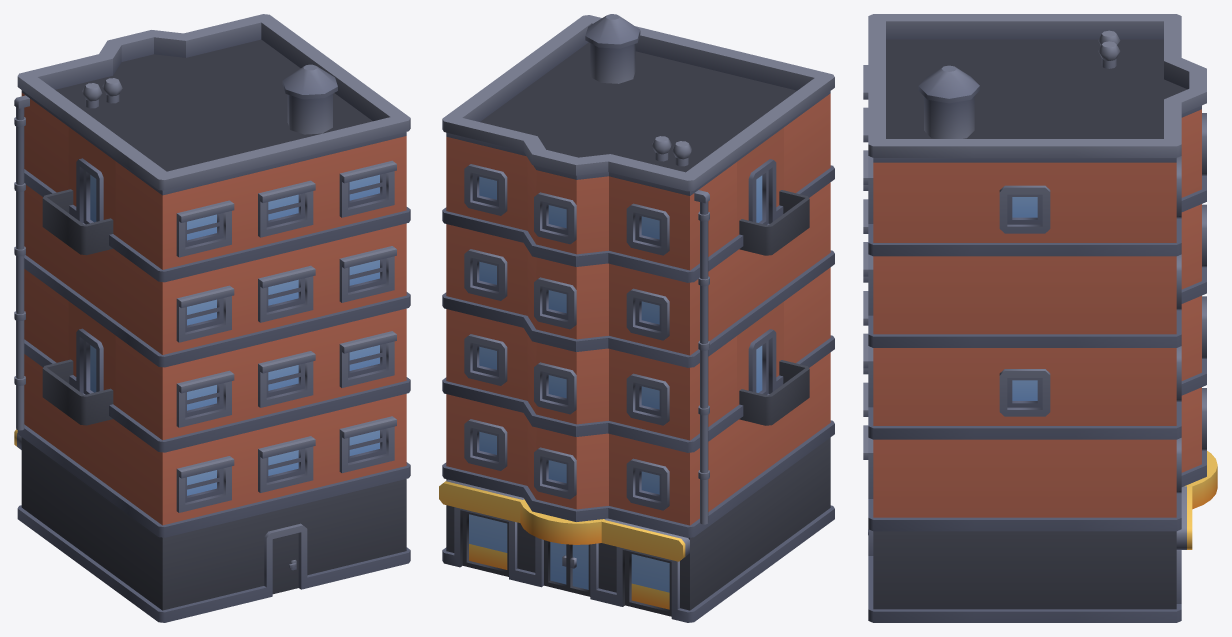
The model's file is building-l-b.glb.
The picture shows the model from 3 angles, left to right: view 1: azimuth 30°, elevation 25°; view 2: azimuth 150°, elevation 25°; view 3: azimuth 270°, elevation 25°; orthographic projection. The views are drawn at different scales.
Visible parts, largest first — view 1: building-l; view 2: building-l; view 3: building-l.
Boxes of the visible parts, x1,y1,x2,y2 form: building-l: (14, 14, 410, 622); building-l: (439, 14, 834, 622); building-l: (863, 14, 1217, 622).
Size of the model in its own units: 1.37 by 2.27 by 1.4.
Materials: 1 (1 with a texture image).
